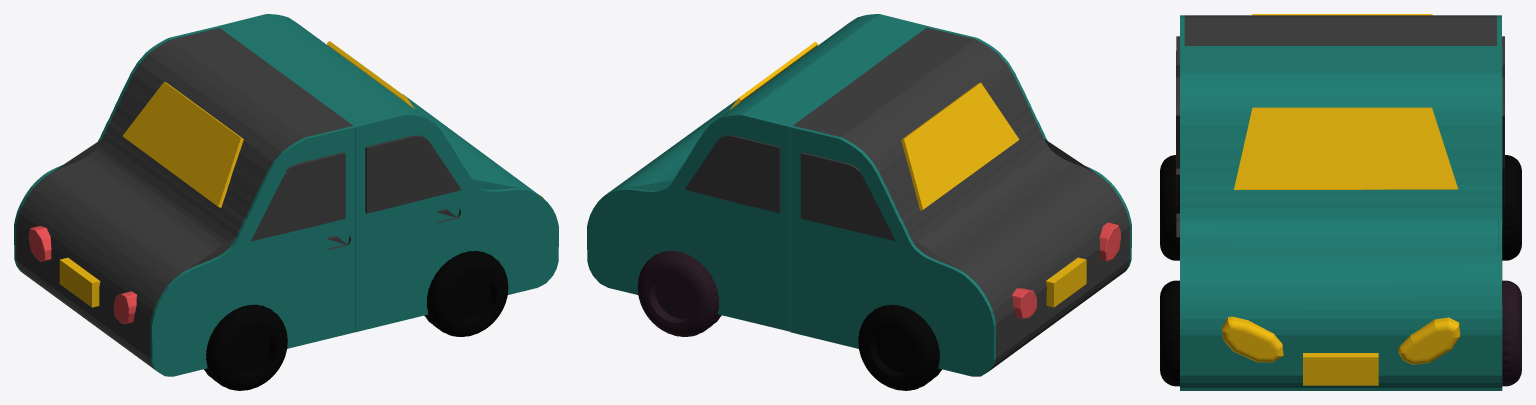
The model's file is car_green.fbx.
3 renders of one model, left to right at view 1: azimuth 30°, elevation 25°; view 2: azimuth 150°, elevation 25°; view 3: azimuth 270°, elevation 25°, orthographic. The views are drawn at different scales.
Parts seen in each view (by area): view 1: 큐브.003; view 2: 큐브.003; view 3: 큐브.003.
Part boxes in pixels (<box>): 큐브.003: <box>14,14,558,390</box>; 큐브.003: <box>587,14,1131,390</box>; 큐브.003: <box>1160,14,1521,390</box>.
Size of the model in its own units: 502 by 266 by 320.
